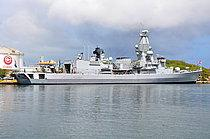MIL_Ship: (10, 28, 202, 84)
